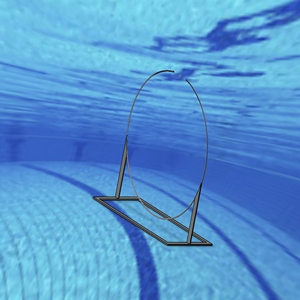circle: (91, 68, 213, 246)
